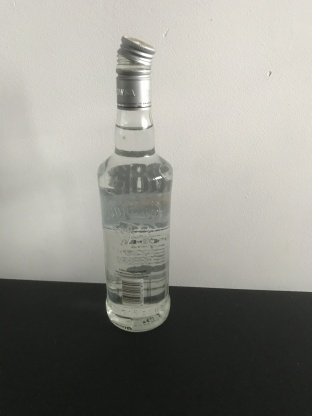nakretka: (114, 34, 156, 110)
